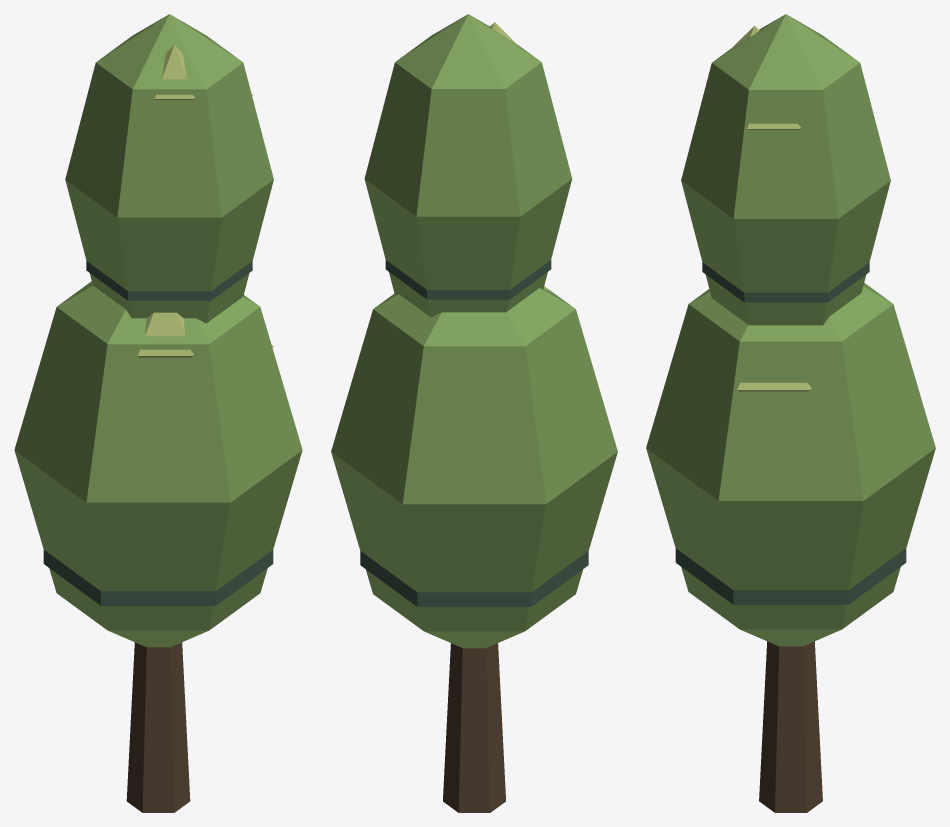
Rendered from tree-poplar.glb.
3 views of the same model, side by side, from view 1: azimuth 30°, elevation 25°; view 2: azimuth 150°, elevation 25°; view 3: azimuth 270°, elevation 25° (orthographic).
Parts seen in each view (by area): view 1: tree-poplar; view 2: tree-poplar; view 3: tree-poplar.
Boxes of the visible parts, box(x1,y1,x2,y2) form: tree-poplar: box(14, 14, 302, 812); tree-poplar: box(331, 14, 617, 812); tree-poplar: box(646, 14, 935, 812).
Size of the model in its own units: 2.51 by 8.74 by 2.9.
Materials: 1 (1 with a texture image).
